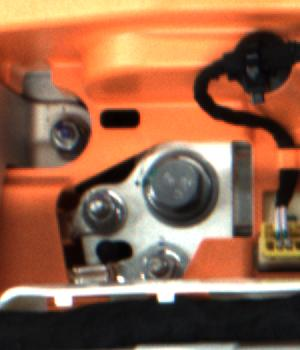nut_b: (135, 151, 214, 226)
